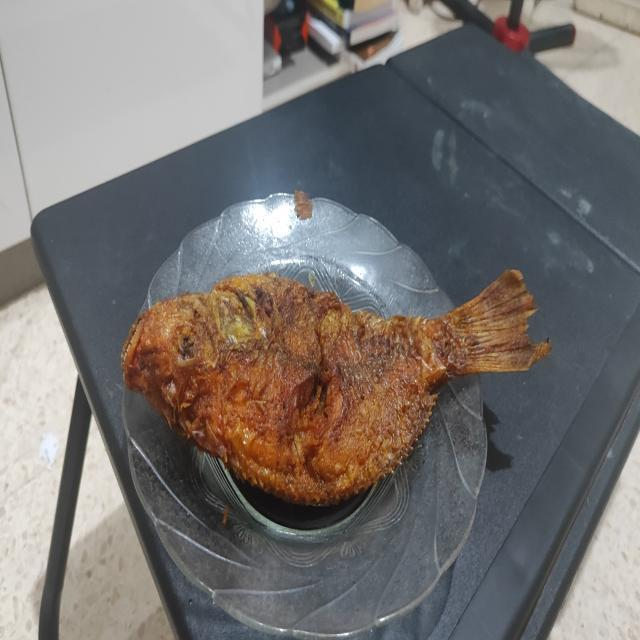ikan_mujair: (122, 270, 551, 505)
